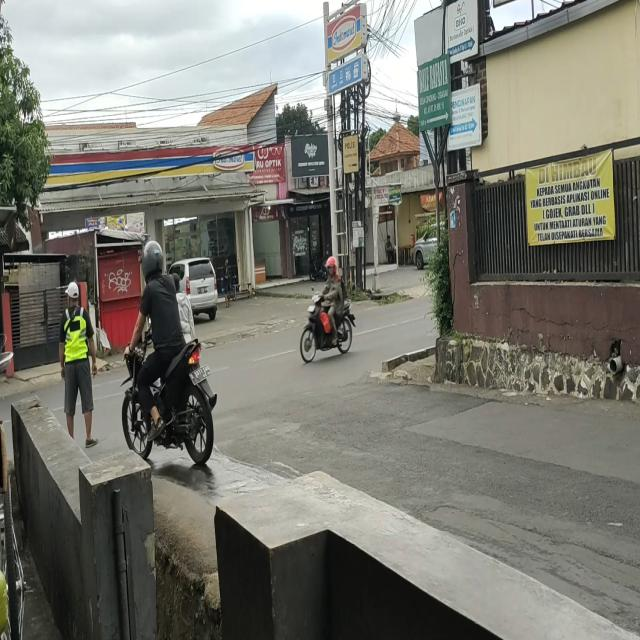helmet: (142, 241, 163, 277), (325, 258, 339, 278)
